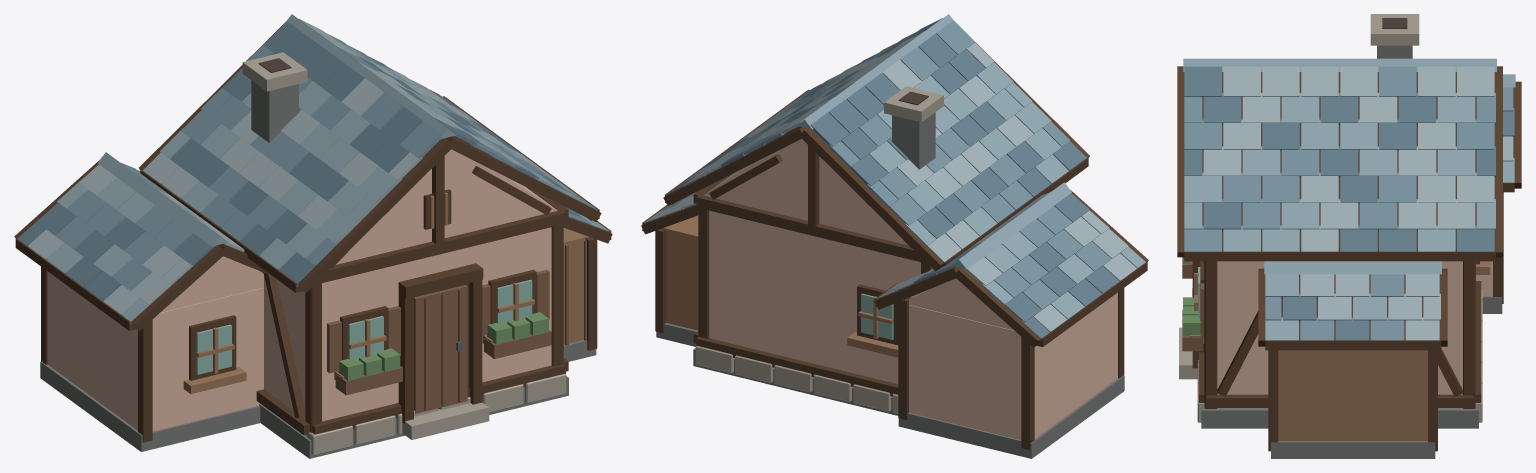
File: ENV_Cottage_C_LOD0.glb
The picture shows the model from 3 angles, left to right: view 1: azimuth 30°, elevation 25°; view 2: azimuth 150°, elevation 25°; view 3: azimuth 270°, elevation 25°; orthographic projection. The views are drawn at different scales.
Parts seen in each view (by area): view 1: ENV_Cottage_C_LOD0_roof_roofTiles, ENV_Cottage_C_LOD0_shell_plasterRose, ENV_Cottage_C_LOD0_shell_woodDark, ENV_Cottage_C_LOD0_wing_plasterRose, ENV_Cottage_C_LOD0_wing_roofTiles, ENV_Cottage_C_LOD0_shell_wood, ENV_Cottage_C_LOD0_wing_woodDark, ENV_Cottage_C_LOD0_roof_woodDark, ENV_Cottage_C_LOD0_wing_stoneDark, ENV_Cottage_C_LOD0_foundation_stone, ENV_Cottage_C_LOD0_occupied_leafLight, ENV_Cottage_C_LOD0_occupied_stoneDark (+11 smaller); view 2: ENV_Cottage_C_LOD0_roof_roofTiles, ENV_Cottage_C_LOD0_shell_plasterRose, ENV_Cottage_C_LOD0_wing_plasterRose, ENV_Cottage_C_LOD0_wing_roofTiles, ENV_Cottage_C_LOD0_shell_woodDark, ENV_Cottage_C_LOD0_wing_woodDark, ENV_Cottage_C_LOD0_roof_woodDark, ENV_Cottage_C_LOD0_foundation_stone, ENV_Cottage_C_LOD0_wing_stoneDark, ENV_Cottage_C_LOD0_shed_woodLight, ENV_Cottage_C_LOD0_shed_woodDark, ENV_Cottage_C_LOD0_occupied_stoneDark (+5 smaller); view 3: ENV_Cottage_C_LOD0_roof_roofTiles, ENV_Cottage_C_LOD0_shed_roofTiles, ENV_Cottage_C_LOD0_shed_woodLight, ENV_Cottage_C_LOD0_roof_woodDark, ENV_Cottage_C_LOD0_shell_woodDark, ENV_Cottage_C_LOD0_shell_plasterRose, ENV_Cottage_C_LOD0_shed_woodDark, ENV_Cottage_C_LOD0_shed_stoneDark, ENV_Cottage_C_LOD0_foundation_stoneDark, ENV_Cottage_C_LOD0_wing_woodDark, ENV_Cottage_C_LOD0_occupied_stone, ENV_Cottage_C_LOD0_wing_roofTiles (+7 smaller).
Part boxes in pixels (x1,y1,x2,y2): ENV_Cottage_C_LOD0_roof_roofTiles: (143,14,597,286); ENV_Cottage_C_LOD0_shell_plasterRose: (260,149,557,421); ENV_Cottage_C_LOD0_shell_woodDark: (256,156,568,435); ENV_Cottage_C_LOD0_wing_plasterRose: (47,256,263,431); ENV_Cottage_C_LOD0_wing_roofTiles: (17,152,244,324); ENV_Cottage_C_LOD0_shell_wood: (327,269,549,413); ENV_Cottage_C_LOD0_wing_woodDark: (14,160,267,442); ENV_Cottage_C_LOD0_roof_woodDark: (139,22,601,292); ENV_Cottage_C_LOD0_wing_stoneDark: (40,361,260,451); ENV_Cottage_C_LOD0_foundation_stone: (306,374,566,455); ENV_Cottage_C_LOD0_occupied_leafLight: (338,312,548,380); ENV_Cottage_C_LOD0_occupied_stoneDark: (251,80,298,142); ENV_Cottage_C_LOD0_roof_roofTiles: (667,14,1086,262); ENV_Cottage_C_LOD0_shell_plasterRose: (703,139,920,383); ENV_Cottage_C_LOD0_wing_plasterRose: (909,278,1117,439); ENV_Cottage_C_LOD0_wing_roofTiles: (876,182,1145,341); ENV_Cottage_C_LOD0_shell_woodDark: (693,145,932,396); ENV_Cottage_C_LOD0_wing_woodDark: (874,190,1148,450); ENV_Cottage_C_LOD0_roof_woodDark: (663,42,1089,271); ENV_Cottage_C_LOD0_foundation_stone: (695,346,898,413); ENV_Cottage_C_LOD0_wing_stoneDark: (898,375,1124,458); ENV_Cottage_C_LOD0_shed_woodLight: (662,215,698,330); ENV_Cottage_C_LOD0_shed_woodDark: (641,204,698,332); ENV_Cottage_C_LOD0_occupied_stoneDark: (892,112,935,169); ENV_Cottage_C_LOD0_roof_roofTiles: (1183,58,1496,251); ENV_Cottage_C_LOD0_shed_roofTiles: (1264,261,1441,340); ENV_Cottage_C_LOD0_shed_woodLight: (1278,350,1427,440); ENV_Cottage_C_LOD0_roof_woodDark: (1177,66,1502,261); ENV_Cottage_C_LOD0_shell_woodDark: (1192,261,1481,408); ENV_Cottage_C_LOD0_shell_plasterRose: (1217,261,1462,408); ENV_Cottage_C_LOD0_shed_woodDark: (1258,268,1447,451); ENV_Cottage_C_LOD0_shed_stoneDark: (1271,441,1435,458); ENV_Cottage_C_LOD0_foundation_stoneDark: (1201,408,1478,428); ENV_Cottage_C_LOD0_wing_woodDark: (1493,81,1521,303); ENV_Cottage_C_LOD0_occupied_stone: (1370,14,1419,45); ENV_Cottage_C_LOD0_wing_roofTiles: (1503,74,1515,182).
Bounding box in the file's own units: 7.18 × 4.48 × 4.52.
